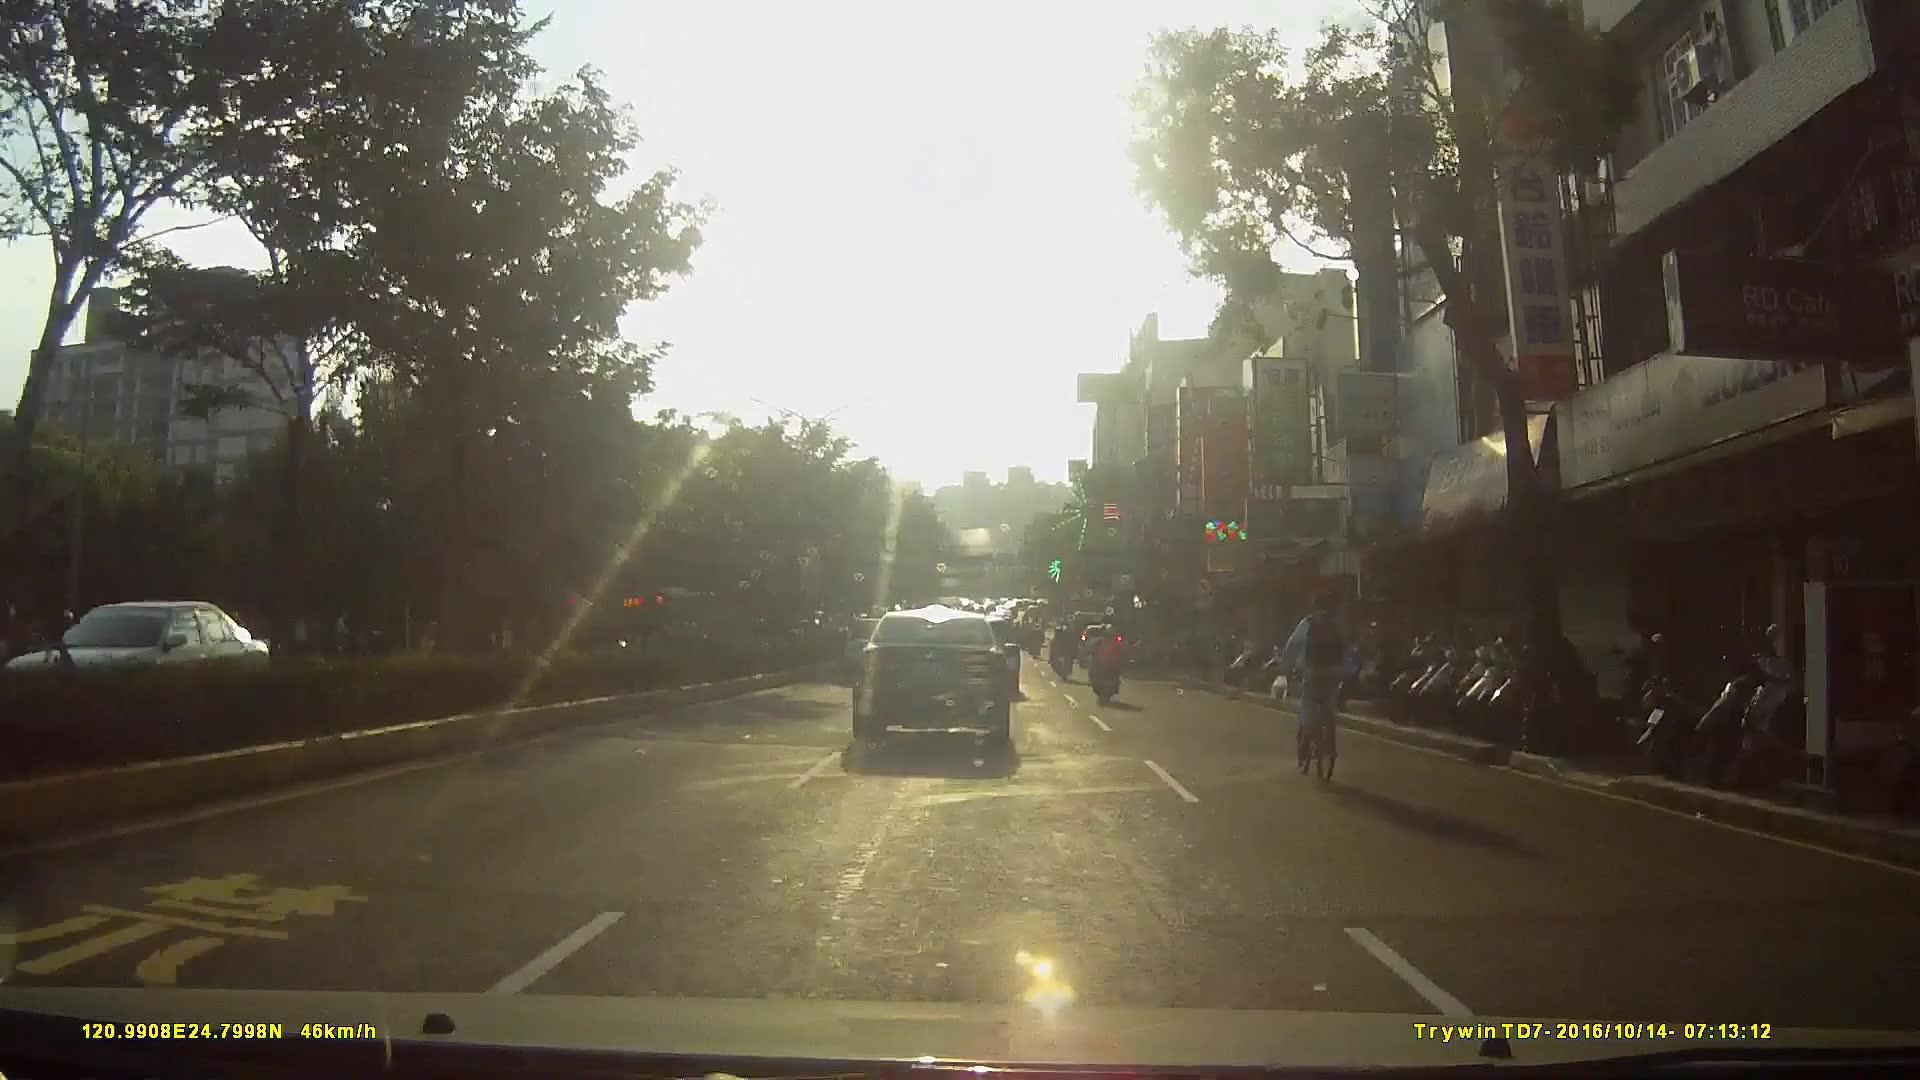rider: (1280, 586, 1360, 776), (1088, 624, 1123, 707), (1049, 622, 1077, 681)
vehicle: (854, 604, 1031, 767), (14, 598, 259, 706)
